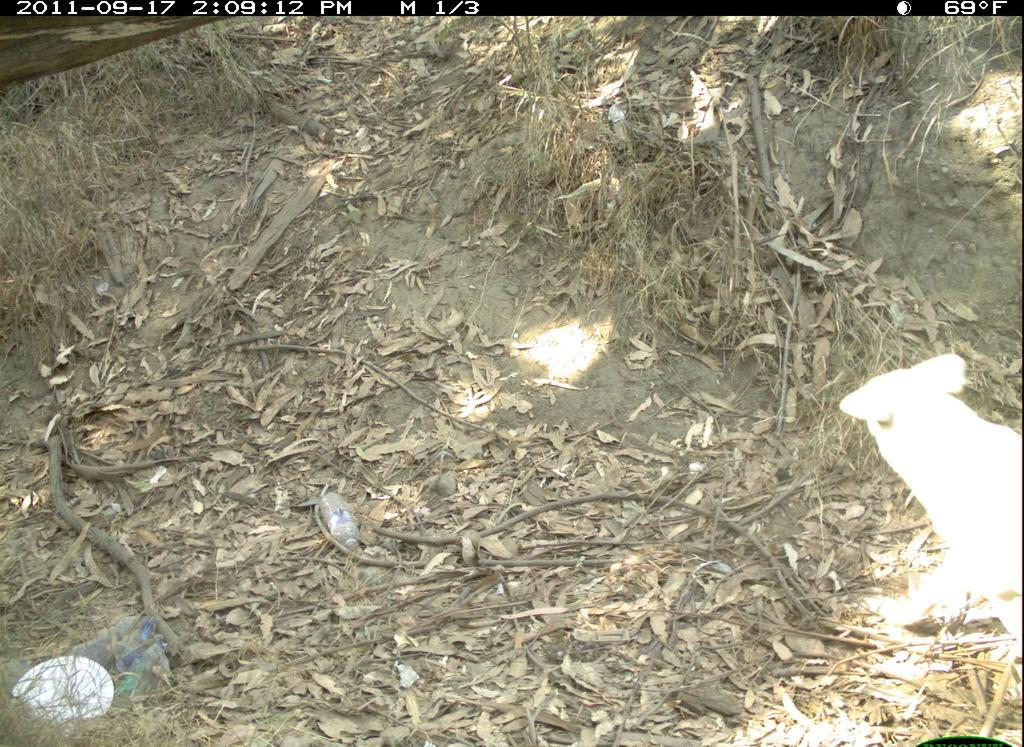dog: (838, 345, 1023, 661)
